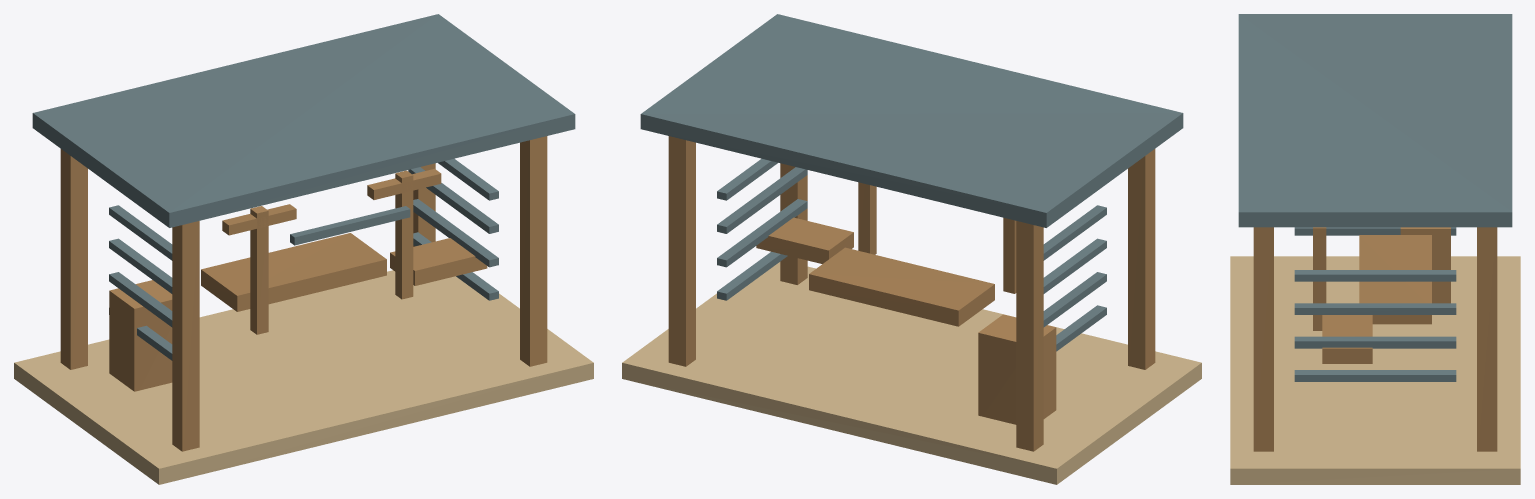
File: basket-workshop.source.glb
The picture shows the model from 3 angles, left to right: view 1: azimuth 30°, elevation 25°; view 2: azimuth 150°, elevation 25°; view 3: azimuth 270°, elevation 25°; orthographic projection.
Visible parts, largest first — view 1: basket-workshop-lean-canopy-roof-mesh, basket-workshop-concrete-footing-strip-mesh, basket-workshop-weaving-bench-mesh, basket-workshop-canopy-post-2-mesh, basket-workshop-canopy-post-3-mesh, basket-workshop-canopy-post-0-mesh, basket-workshop-tool-cabinet-mesh, basket-workshop-narrow-work-table-mesh, basket-workshop-weave-frame--0.75-mesh, basket-workshop-weave-frame-0.75-mesh, basket-workshop-metal-tool-rail-mesh, basket-workshop-side-screen-1.55-1.08-mesh (+9 smaller); view 2: basket-workshop-lean-canopy-roof-mesh, basket-workshop-concrete-footing-strip-mesh, basket-workshop-weaving-bench-mesh, basket-workshop-canopy-post-0-mesh, basket-workshop-canopy-post-1-mesh, basket-workshop-canopy-post-2-mesh, basket-workshop-tool-cabinet-mesh, basket-workshop-narrow-work-table-mesh, basket-workshop-canopy-post-3-mesh, basket-workshop-side-screen-1.55-1.08-mesh, basket-workshop-side-screen-1.55-1.41-mesh, basket-workshop-weave-frame-0.75-mesh (+7 smaller); view 3: basket-workshop-lean-canopy-roof-mesh, basket-workshop-concrete-footing-strip-mesh, basket-workshop-weaving-bench-mesh, basket-workshop-canopy-post-1-mesh, basket-workshop-canopy-post-3-mesh, basket-workshop-side-screen-1.55-1.08-mesh, basket-workshop-narrow-work-table-mesh, basket-workshop-side-screen-1.55-0.75-mesh, basket-workshop-side-screen-1.55-1.41-mesh, basket-workshop-side-screen-1.55-1.74-mesh, basket-workshop-tool-cabinet-mesh, basket-workshop-weave-frame-0.75-mesh (+1 smaller).
Part boxes in pixels (left/top/right/bottom): basket-workshop-lean-canopy-roof-mesh: left=32, top=14, right=575, bottom=227; basket-workshop-concrete-footing-strip-mesh: left=14, top=270, right=593, bottom=484; basket-workshop-weaving-bench-mesh: left=201, top=233, right=386, bottom=311; basket-workshop-canopy-post-2-mesh: left=172, top=221, right=199, bottom=451; basket-workshop-canopy-post-3-mesh: left=520, top=136, right=547, bottom=366; basket-workshop-canopy-post-0-mesh: left=60, top=149, right=87, bottom=369; basket-workshop-tool-cabinet-mesh: left=109, top=280, right=172, bottom=391; basket-workshop-narrow-work-table-mesh: left=390, top=238, right=487, bottom=285; basket-workshop-weave-frame--0.75-mesh: left=250, top=206, right=268, bottom=334; basket-workshop-weave-frame-0.75-mesh: left=395, top=170, right=413, bottom=299; basket-workshop-metal-tool-rail-mesh: left=290, top=206, right=410, bottom=245; basket-workshop-side-screen-1.55-1.08-mesh: left=413, top=199, right=498, bottom=267; basket-workshop-lean-canopy-roof-mesh: left=640, top=14, right=1183, bottom=227; basket-workshop-concrete-footing-strip-mesh: left=622, top=262, right=1201, bottom=484; basket-workshop-weaving-bench-mesh: left=809, top=247, right=994, bottom=326; basket-workshop-canopy-post-0-mesh: left=1016, top=221, right=1043, bottom=451; basket-workshop-canopy-post-1-mesh: left=668, top=136, right=695, bottom=366; basket-workshop-canopy-post-2-mesh: left=1128, top=149, right=1155, bottom=369; basket-workshop-tool-cabinet-mesh: left=978, top=314, right=1056, bottom=424; basket-workshop-narrow-work-table-mesh: left=756, top=217, right=853, bottom=263; basket-workshop-canopy-post-3-mesh: left=780, top=163, right=807, bottom=284; basket-workshop-side-screen-1.55-1.08-mesh: left=717, top=199, right=807, bottom=267; basket-workshop-side-screen-1.55-1.41-mesh: left=717, top=167, right=807, bottom=233; basket-workshop-weave-frame-0.75-mesh: left=858, top=182, right=876, bottom=254; basket-workshop-lean-canopy-roof-mesh: left=1238, top=14, right=1512, bottom=227; basket-workshop-concrete-footing-strip-mesh: left=1230, top=256, right=1520, bottom=484; basket-workshop-weaving-bench-mesh: left=1359, top=235, right=1431, bottom=324; basket-workshop-canopy-post-1-mesh: left=1477, top=227, right=1497, bottom=451; basket-workshop-canopy-post-3-mesh: left=1253, top=227, right=1273, bottom=451; basket-workshop-side-screen-1.55-1.08-mesh: left=1294, top=336, right=1456, bottom=348; basket-workshop-narrow-work-table-mesh: left=1322, top=315, right=1372, bottom=363; basket-workshop-side-screen-1.55-0.75-mesh: left=1294, top=370, right=1456, bottom=381; basket-workshop-side-screen-1.55-1.41-mesh: left=1294, top=303, right=1456, bottom=314; basket-workshop-side-screen-1.55-1.74-mesh: left=1294, top=270, right=1456, bottom=281; basket-workshop-tool-cabinet-mesh: left=1400, top=227, right=1450, bottom=303; basket-workshop-weave-frame-0.75-mesh: left=1313, top=238, right=1326, bottom=330.
Size of the model in its own units: 4.5 by 2.63 by 2.6.
